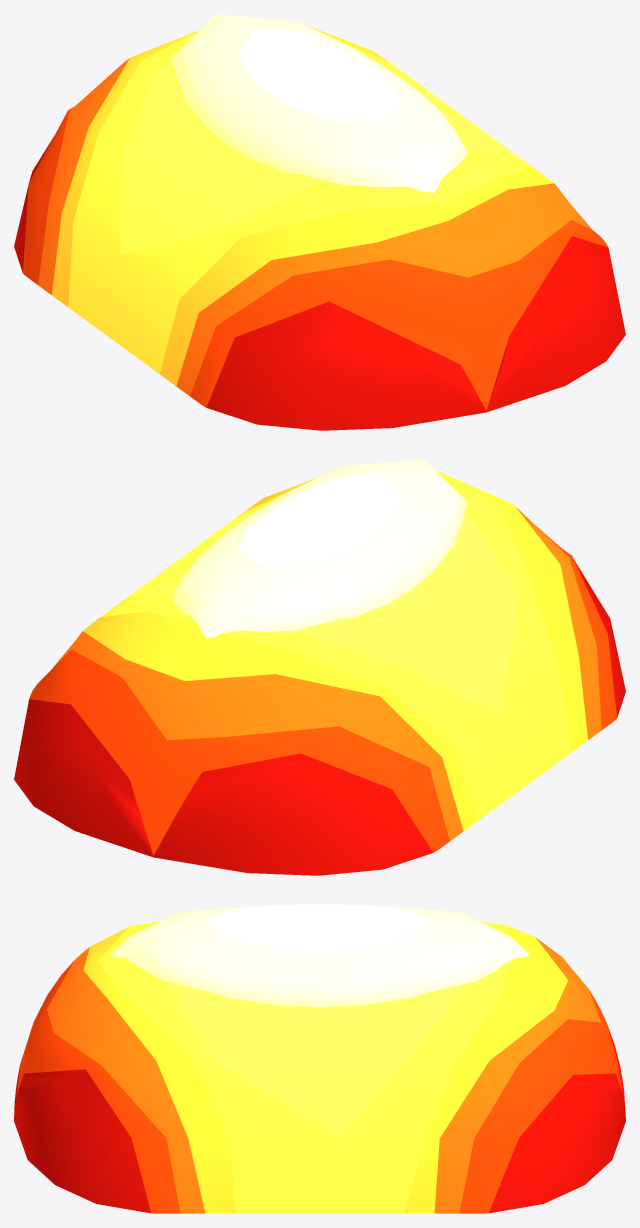
Rendered from shot_widget.glb.
The picture shows the model from 3 angles, top to bottom: view 1: azimuth 30°, elevation 25°; view 2: azimuth 150°, elevation 25°; view 3: azimuth 270°, elevation 25°; orthographic projection. The views are drawn at different scales.
Visible parts, largest first — view 1: shot_widget_plasma, shot_widget_spine; view 2: shot_widget_plasma, shot_widget_spine; view 3: shot_widget_plasma, shot_widget_spine.
Boxes of the visible parts, x1,y1,x2,y2 form: shot_widget_plasma: [14, 25, 625, 430]; shot_widget_spine: [171, 14, 468, 192]; shot_widget_plasma: [14, 472, 625, 875]; shot_widget_spine: [171, 459, 468, 638]; shot_widget_plasma: [14, 921, 625, 1213]; shot_widget_spine: [110, 904, 529, 1006].
Bounding box in the file's own units: 5 × 2.57 × 7.
